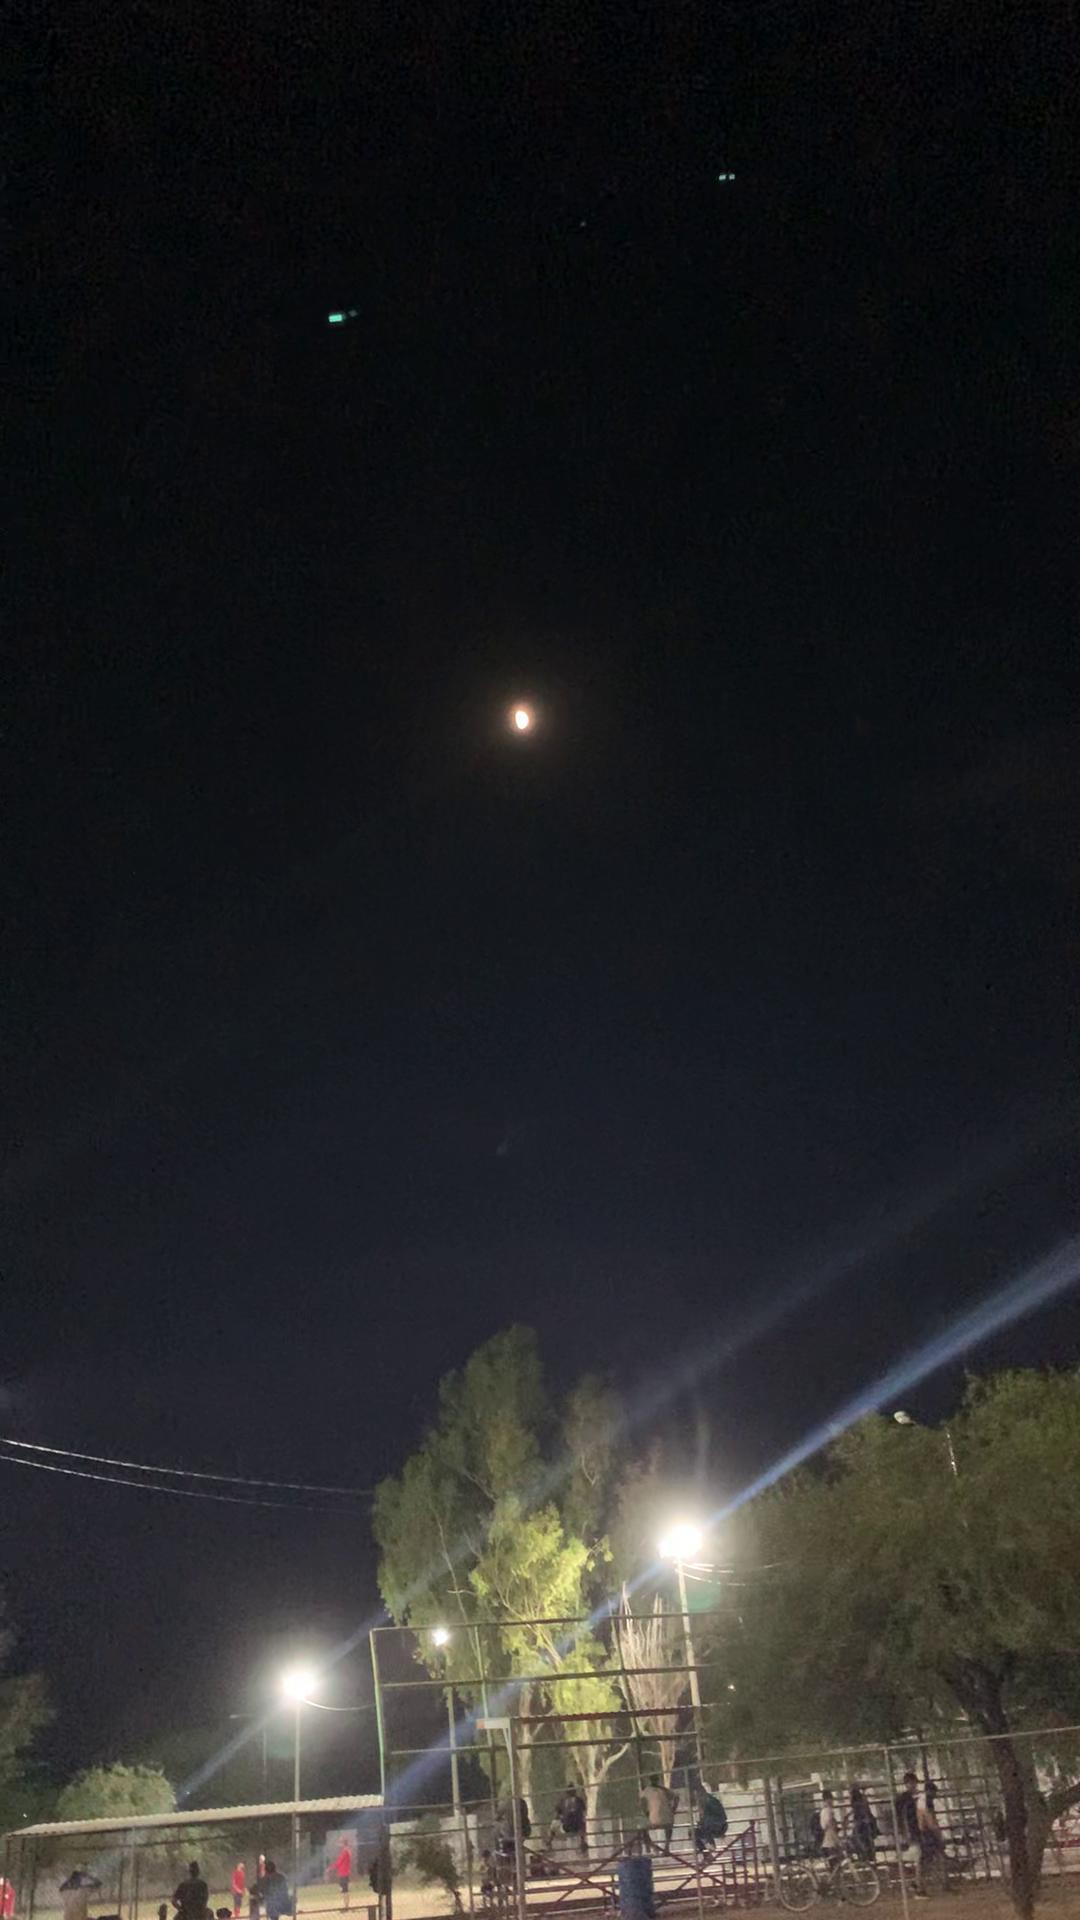moon: (492, 686, 554, 761)
